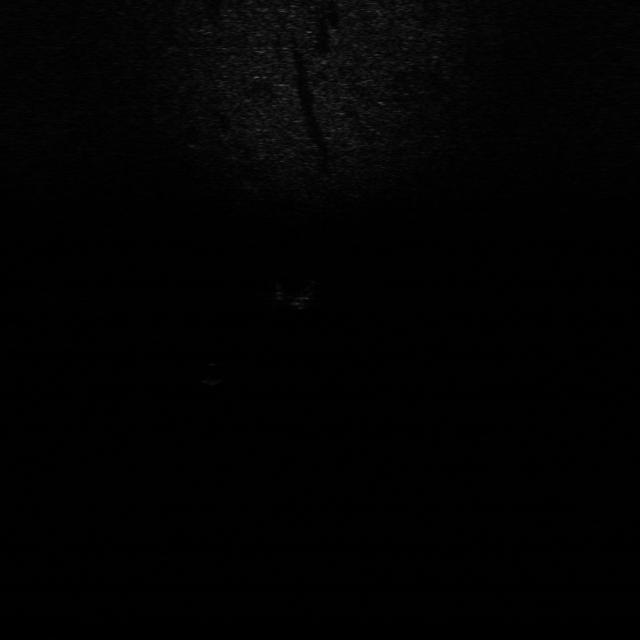ball: (196, 356, 228, 387)
human body: (271, 277, 318, 313)
